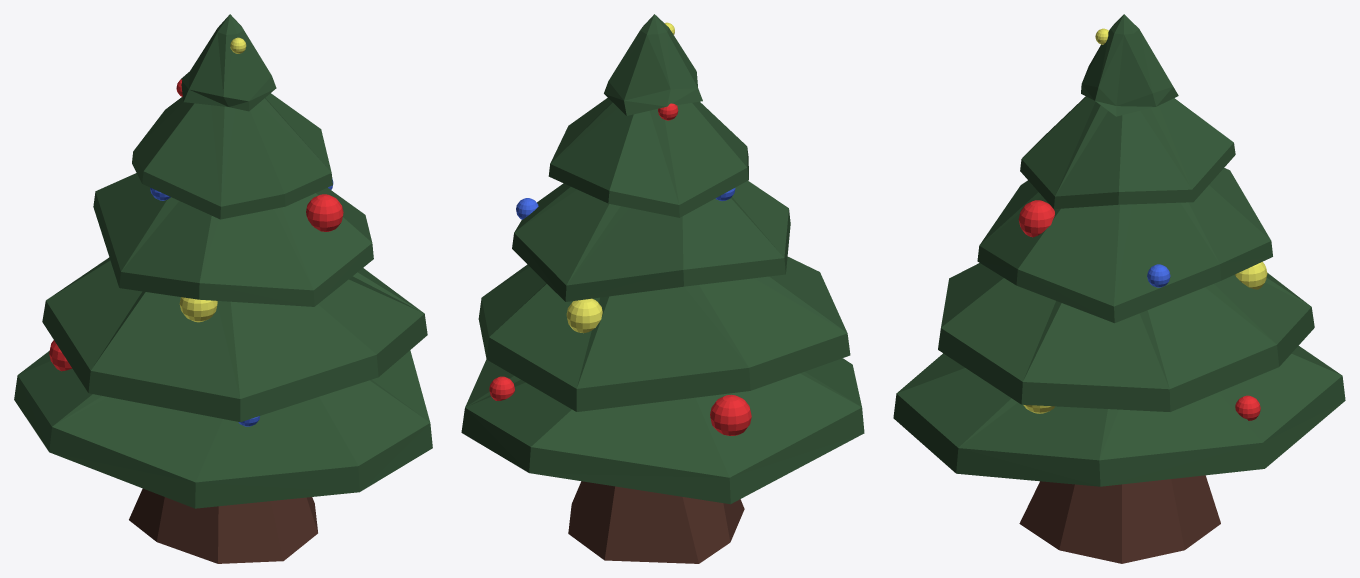
File: xmas tree no snow with ornmnts 1.fbx
3 views of the same model, side by side, from view 1: azimuth 30°, elevation 25°; view 2: azimuth 150°, elevation 25°; view 3: azimuth 270°, elevation 25° (orthographic).
Visible parts, largest first — view 1: Cube; view 2: Cube; view 3: Cube.
Part boxes in pixels (bbox=[...]): Cube: bbox=[14, 14, 432, 563]; Cube: bbox=[461, 14, 864, 563]; Cube: bbox=[893, 14, 1345, 563].
Size of the model in its own units: 671 by 894 by 720.
